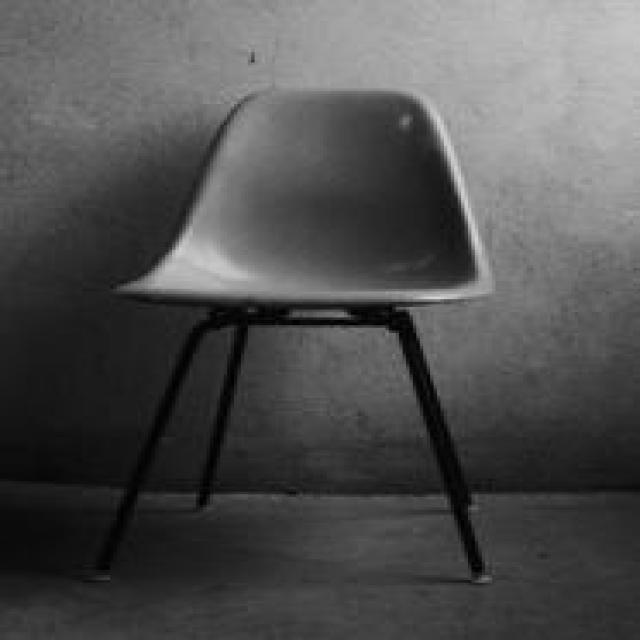chair: (89, 82, 497, 590)
